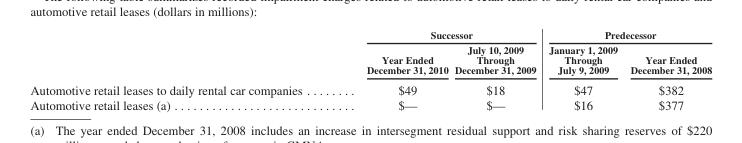table: (29, 28, 711, 111)
table column: (29, 28, 333, 111), (333, 28, 450, 111), (450, 28, 541, 111), (623, 28, 711, 111), (541, 28, 623, 111)
table column header: (29, 28, 711, 79)
table row: (29, 42, 711, 79), (29, 79, 711, 96), (29, 96, 711, 111), (29, 28, 711, 42)
table spanning cell: (333, 28, 541, 42), (541, 28, 711, 42)
